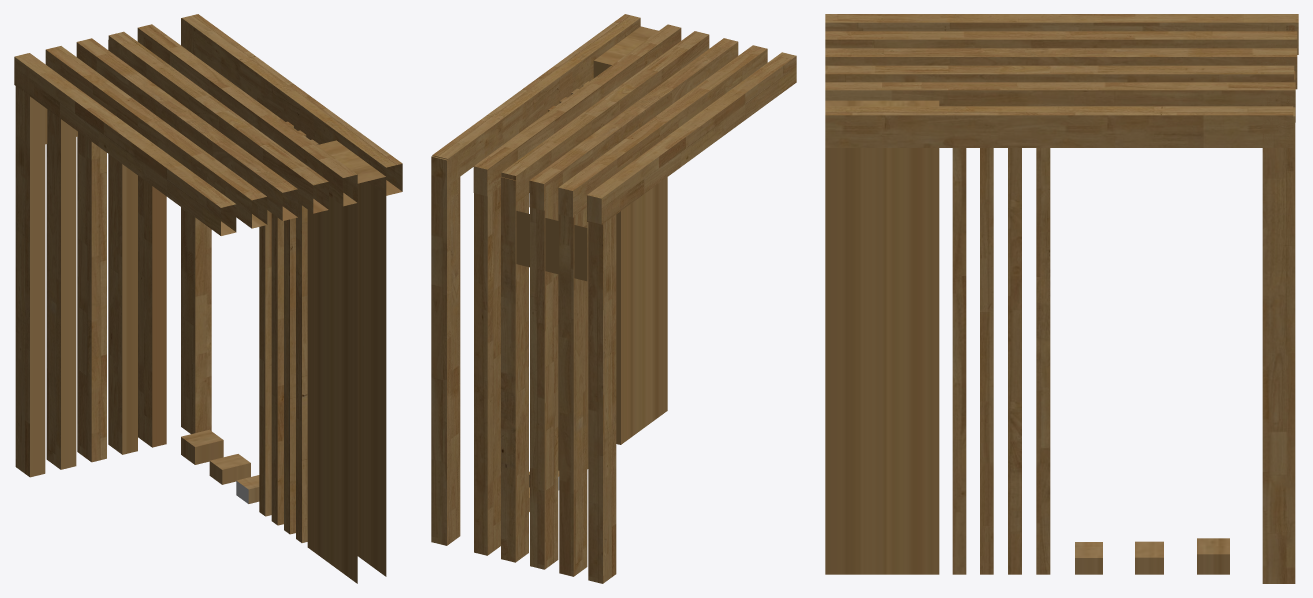
Rendered from ParedTechoS4.obj.
3 views of the same model, side by side, from view 1: azimuth 30°, elevation 25°; view 2: azimuth 150°, elevation 25°; view 3: azimuth 270°, elevation 25° (orthographic). The views are drawn at different scales.
Visible parts, largest first — view 1: ParedTechoS4; view 2: ParedTechoS4; view 3: ParedTechoS4.
Boxes of the visible parts, <box> form: ParedTechoS4: <box>14,14,402,583</box>; ParedTechoS4: <box>431,14,796,583</box>; ParedTechoS4: <box>825,14,1298,583</box>.
Size of the model in its own units: 5.77 by 12.43 by 11.38.
